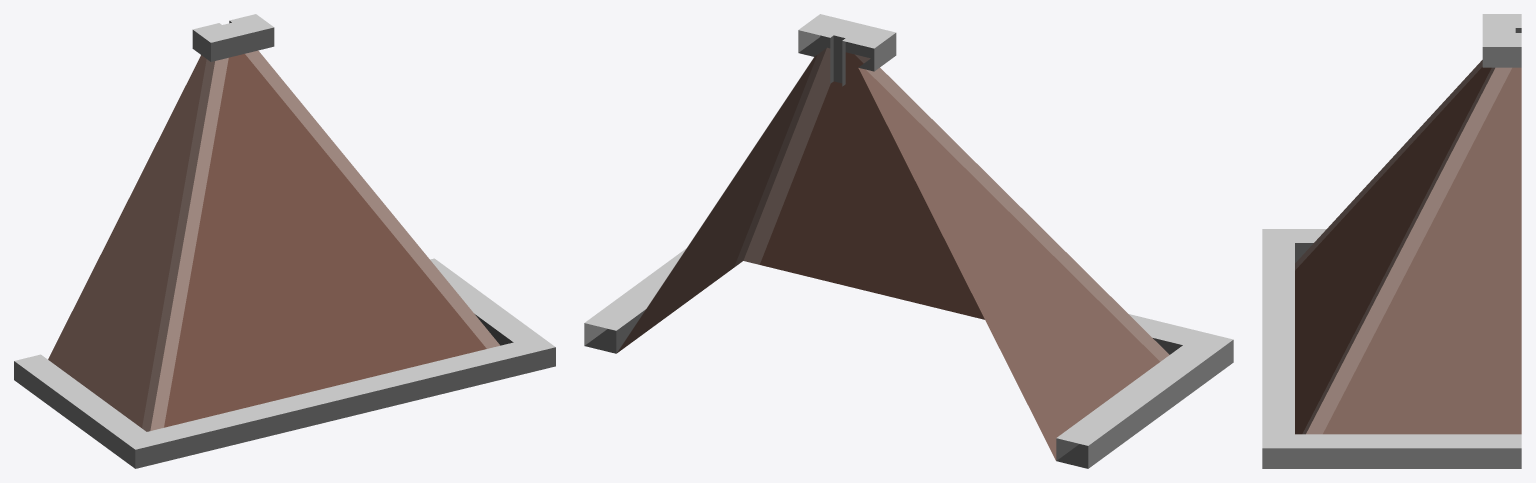
The model's file is Roof03_Corners.fbx.
3 views of the same model, side by side, from view 1: azimuth 30°, elevation 25°; view 2: azimuth 150°, elevation 25°; view 3: azimuth 270°, elevation 25° (orthographic). The views are drawn at different scales.
Visible parts, largest first — view 1: Roof03_Corners; view 2: Roof03_Corners; view 3: Roof03_Corners.
Boxes of the visible parts, <box> form: Roof03_Corners: <box>14,14,555,468</box>; Roof03_Corners: <box>584,14,1233,468</box>; Roof03_Corners: <box>1262,14,1521,468</box>.
Bounding box in the file's own units: 1.15 × 0.8 × 0.5727.
